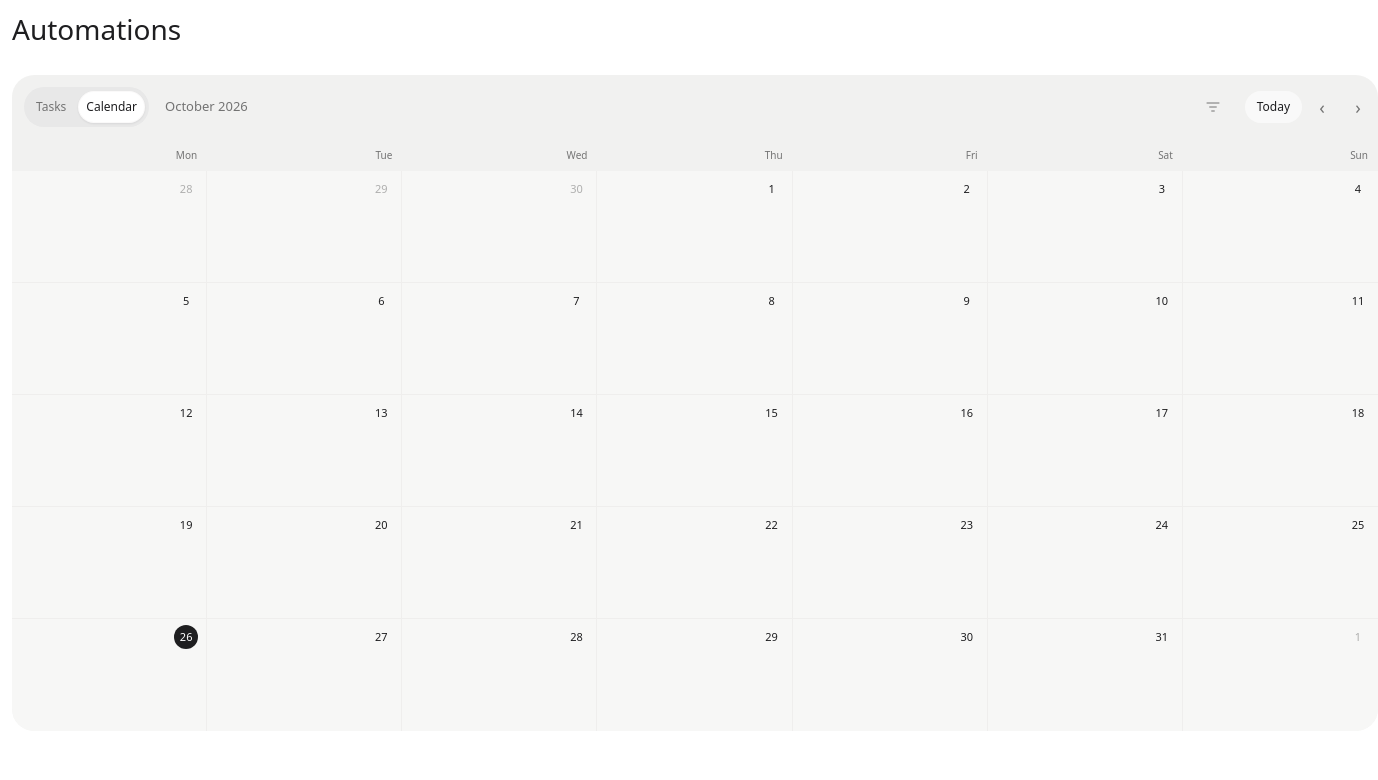
Automation task list and detail sheet › switches views even when browser storage is blocked
The image size is (1378, 780).
Click the button "Tasks". click: (51,107)
box: [28, 91, 74, 123]
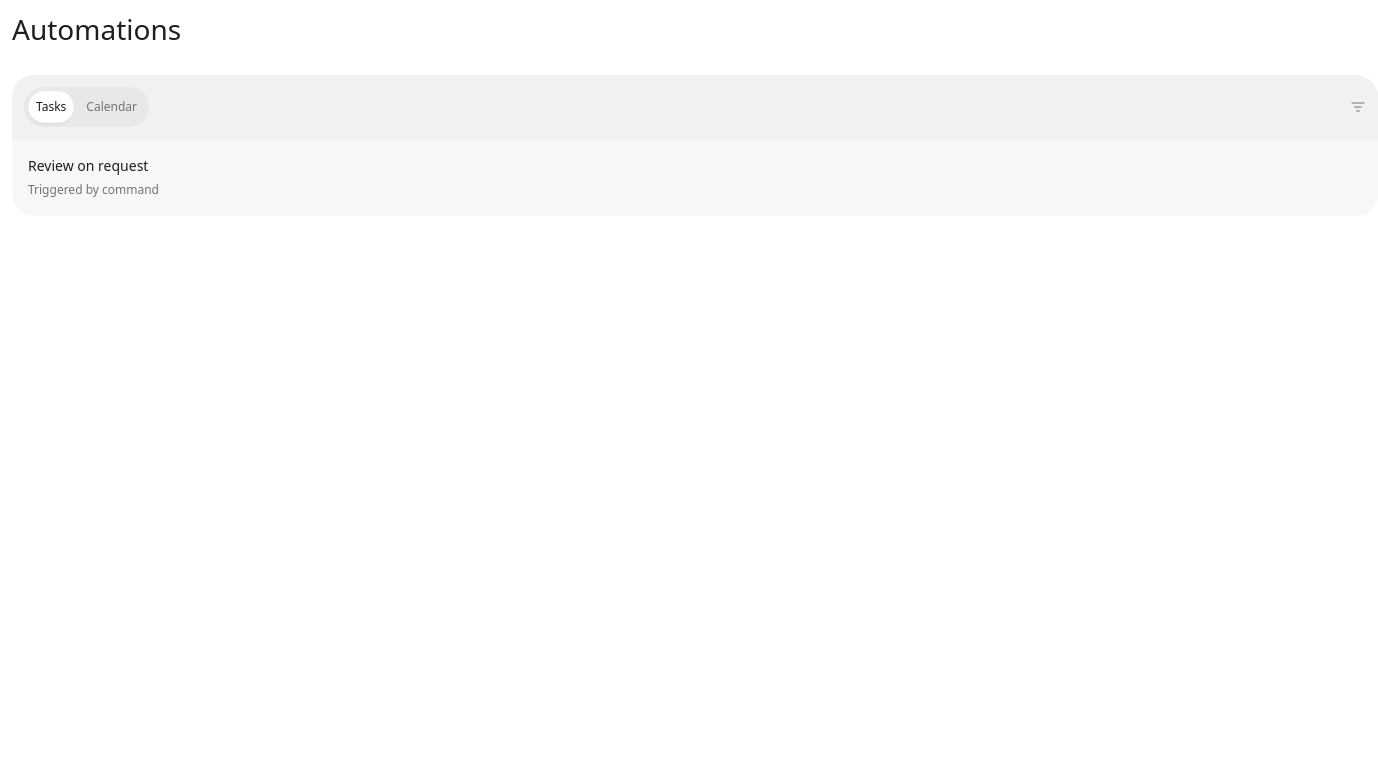
Expected: the button "Review on request Triggered by command" is shown, [16, 143, 1374, 212]
Click the button "Calendar". click: (112,107)
box: [78, 91, 145, 123]
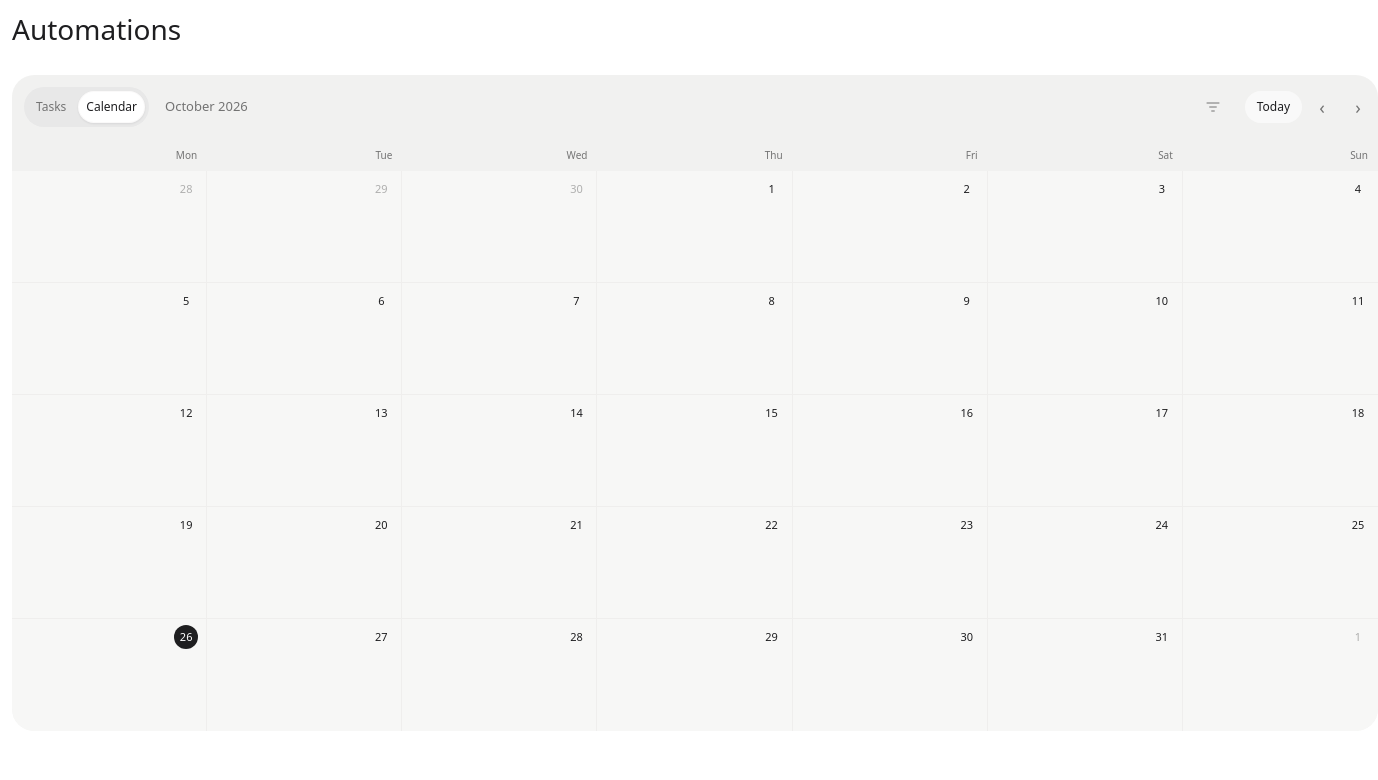
Expected: the button "Review on request" is gone
